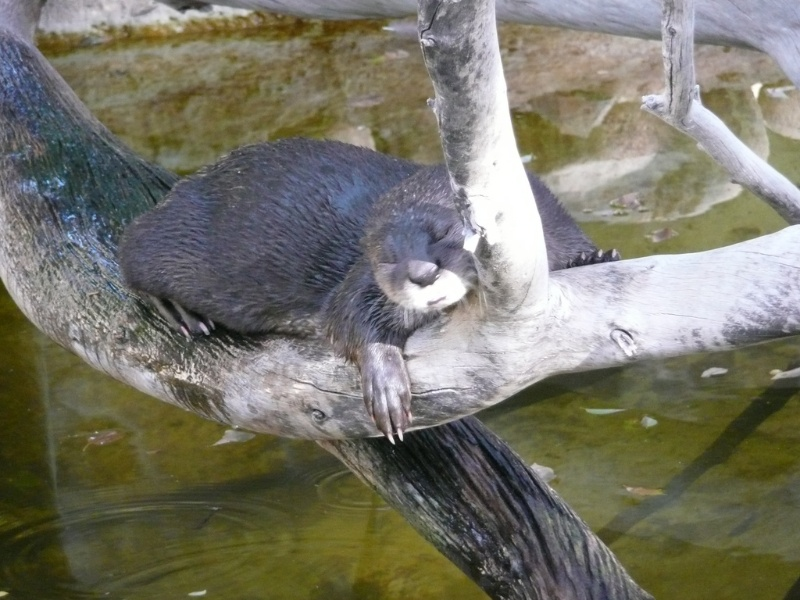minkish: (97, 130, 627, 455)
